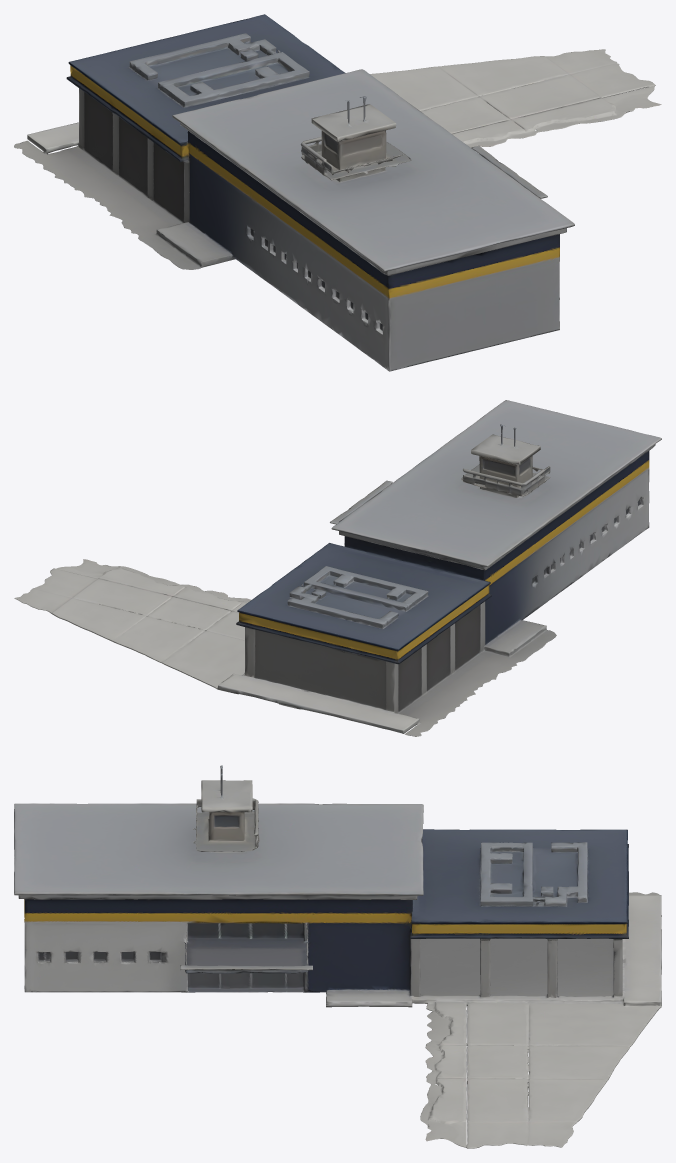
File: predio_prf.glb
The picture shows the model from 3 angles, top to bottom: view 1: azimuth 30°, elevation 25°; view 2: azimuth 150°, elevation 25°; view 3: azimuth 270°, elevation 25°; orthographic projection. The views are drawn at different scales.
Visible parts, largest first — view 1: tripo_node_3a0dff9e-100b-4c38-b827-4b941322ed30; view 2: tripo_node_3a0dff9e-100b-4c38-b827-4b941322ed30; view 3: tripo_node_3a0dff9e-100b-4c38-b827-4b941322ed30.
Part boxes in pixels (x1=…): tripo_node_3a0dff9e-100b-4c38-b827-4b941322ed30: x1=14, y1=14, x2=661, y2=371; tripo_node_3a0dff9e-100b-4c38-b827-4b941322ed30: x1=14, y1=400, x2=661, y2=736; tripo_node_3a0dff9e-100b-4c38-b827-4b941322ed30: x1=14, y1=765, x2=661, y2=1148.
Bounding box in the file's own units: 0.936 × 0.3032 × 0.9994.
1 material, 1 textured.
